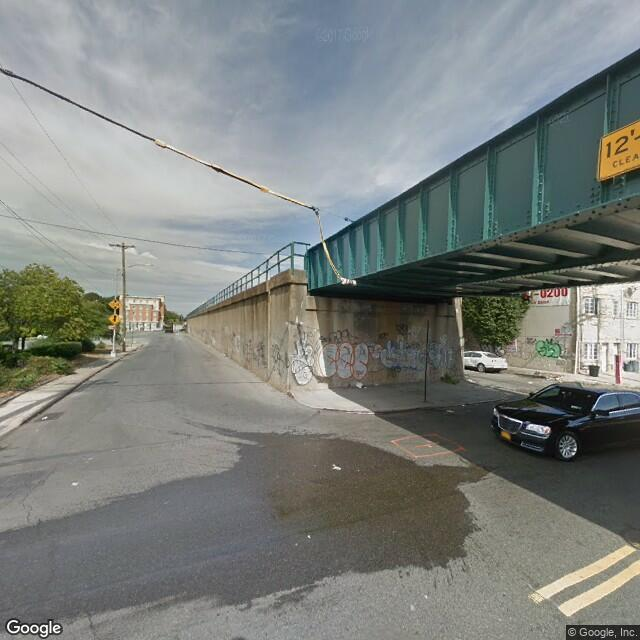litter: (328, 463, 344, 471), (351, 381, 367, 389), (68, 479, 80, 487), (42, 414, 50, 421), (447, 409, 454, 415), (306, 533, 312, 540), (528, 381, 536, 385)
